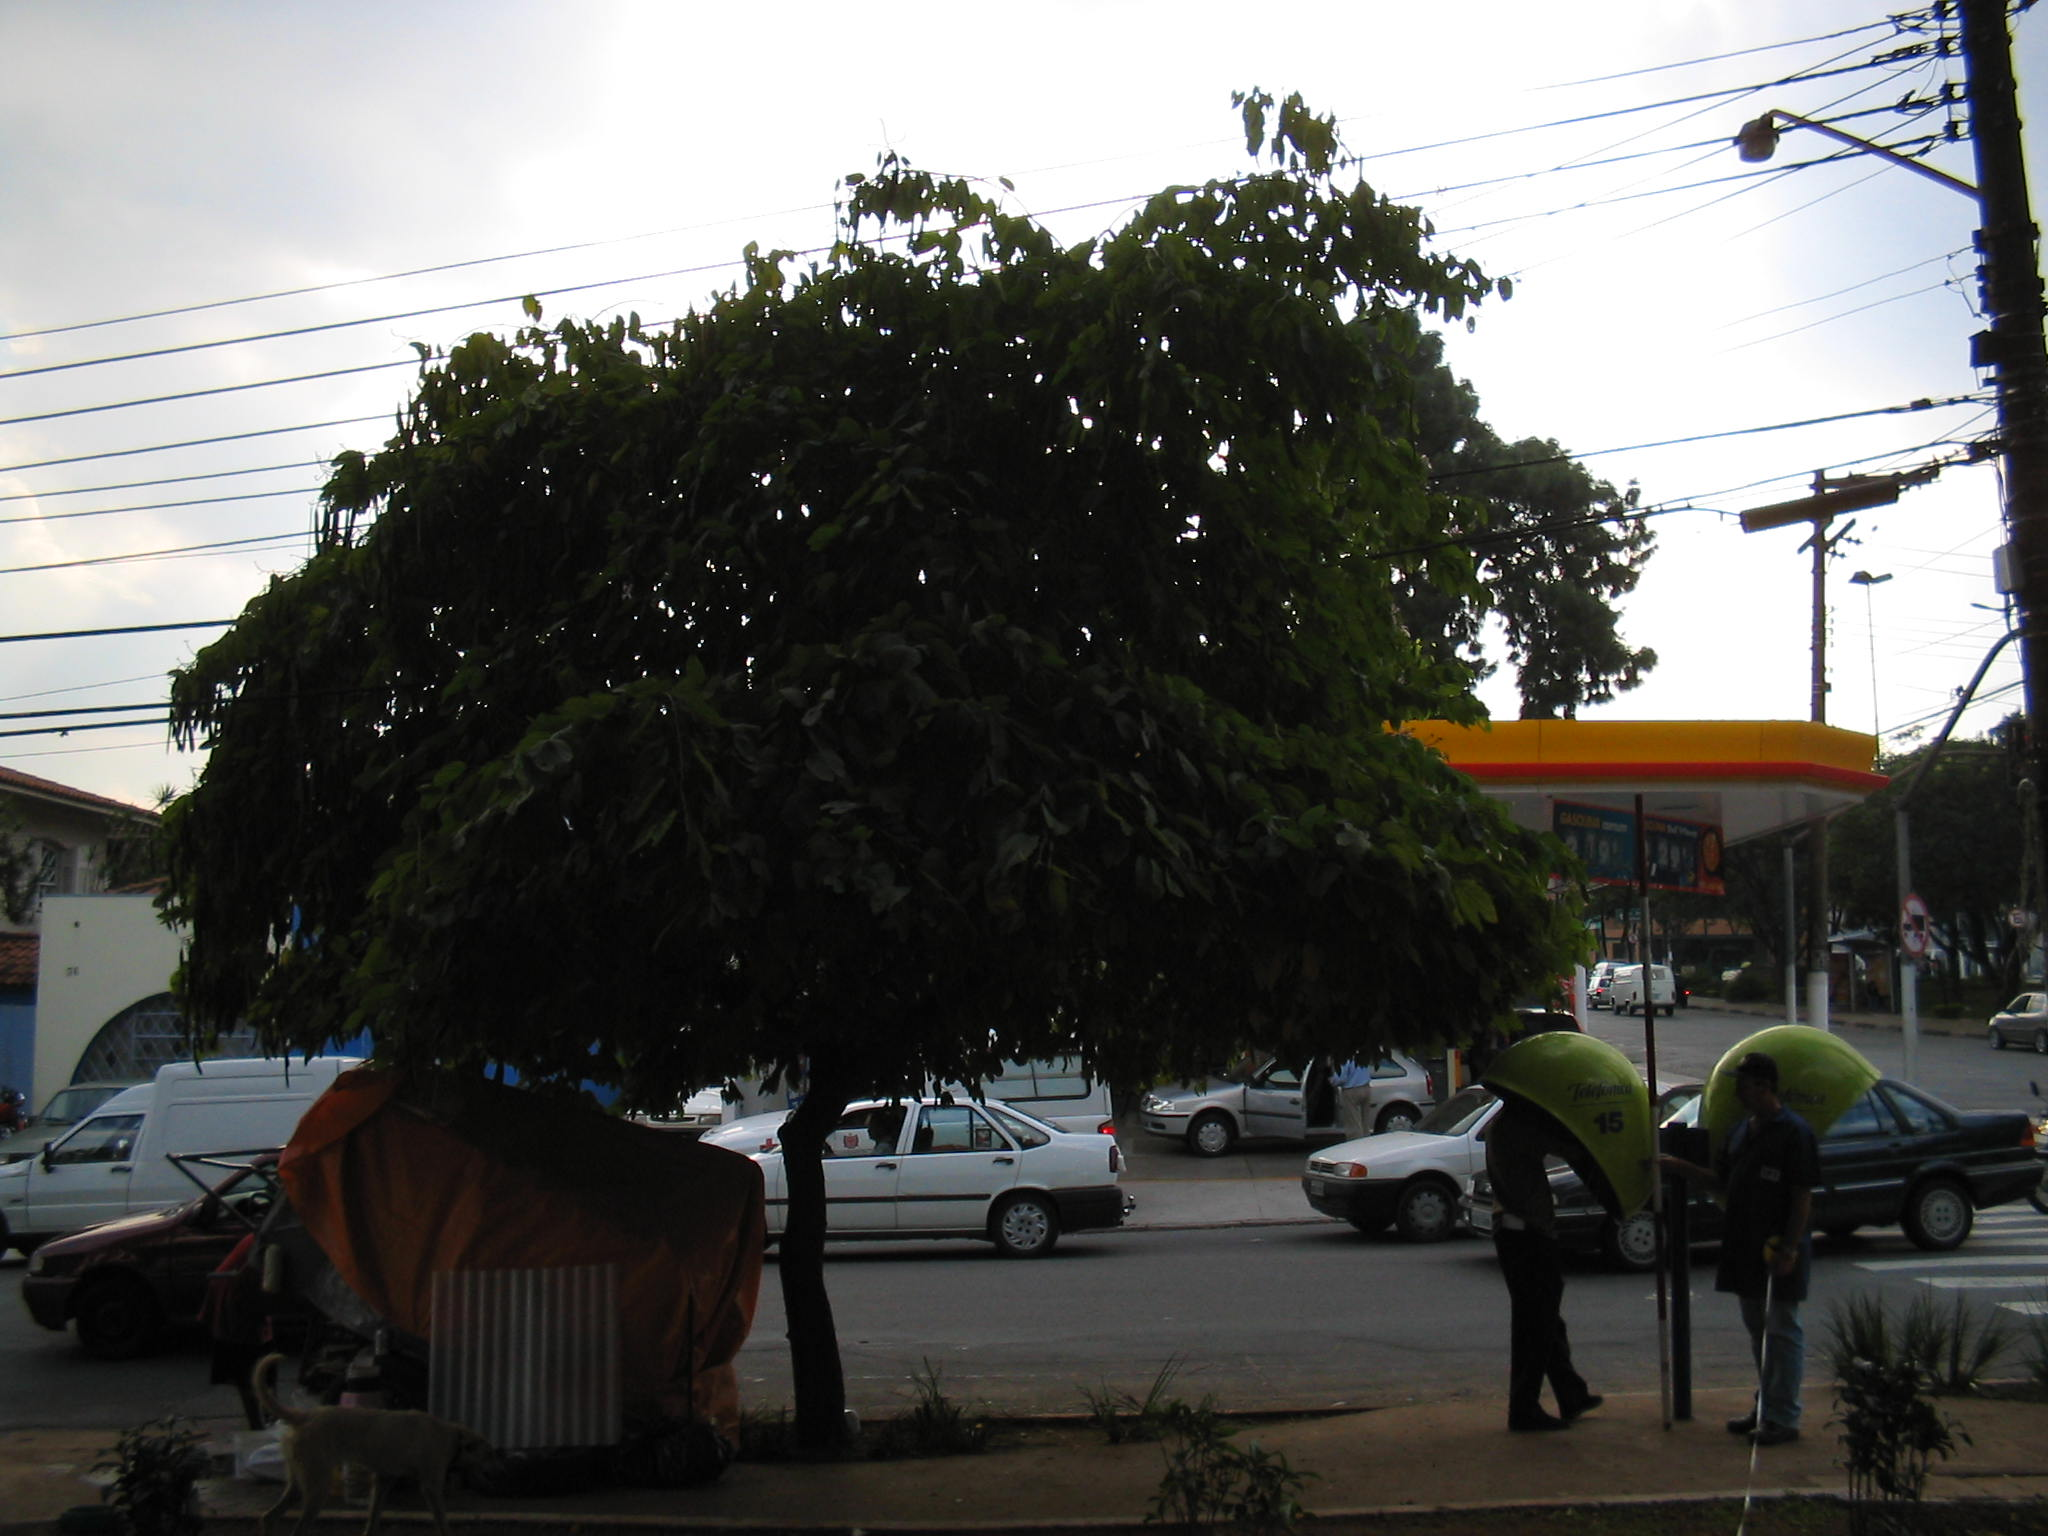crown: (163, 89, 1661, 1118)
stem: (761, 1100, 880, 1452)
stick: (1617, 792, 1696, 1439)
tree: (160, 86, 1663, 1450)
